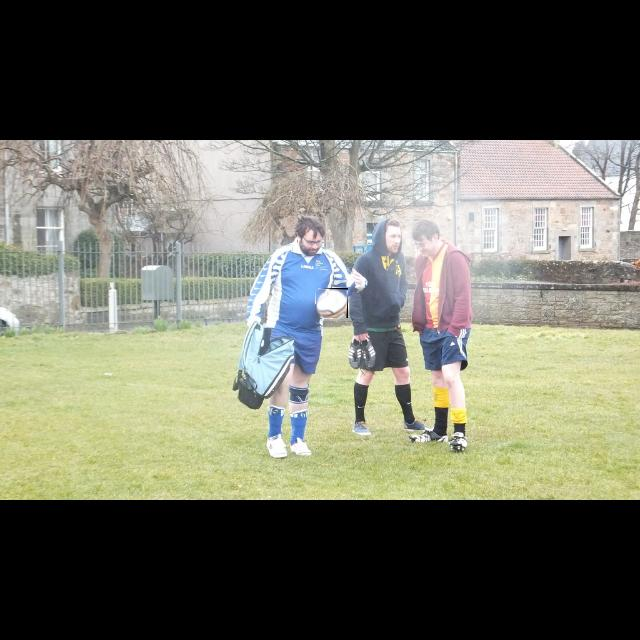Football: (316, 288, 348, 318)
